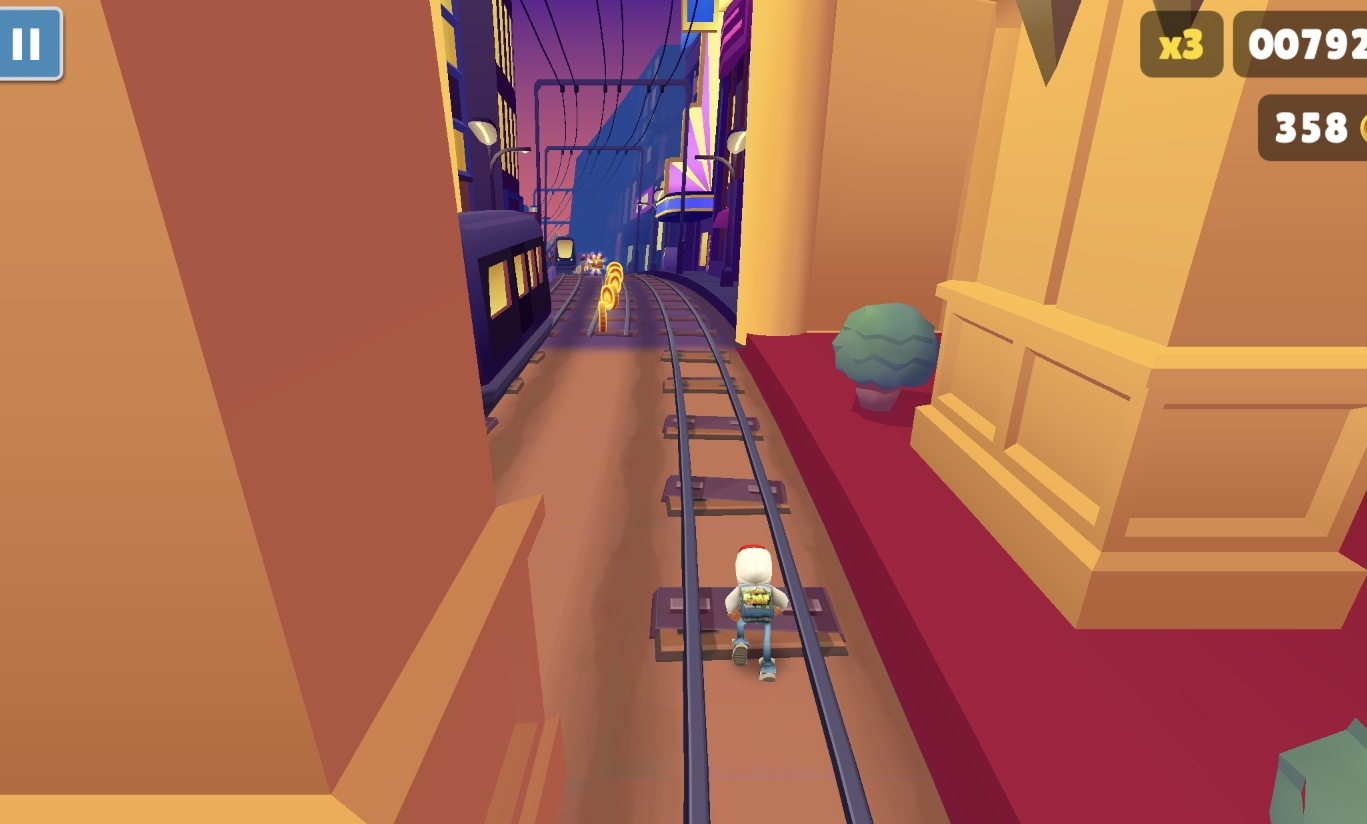ground_barrier: (592, 283, 632, 338)
pillar: (0, 0, 563, 824)
train: (457, 210, 551, 417), (554, 237, 576, 275)
